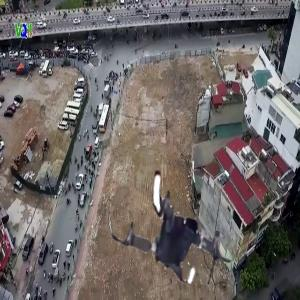drone: (106, 152, 252, 298)
